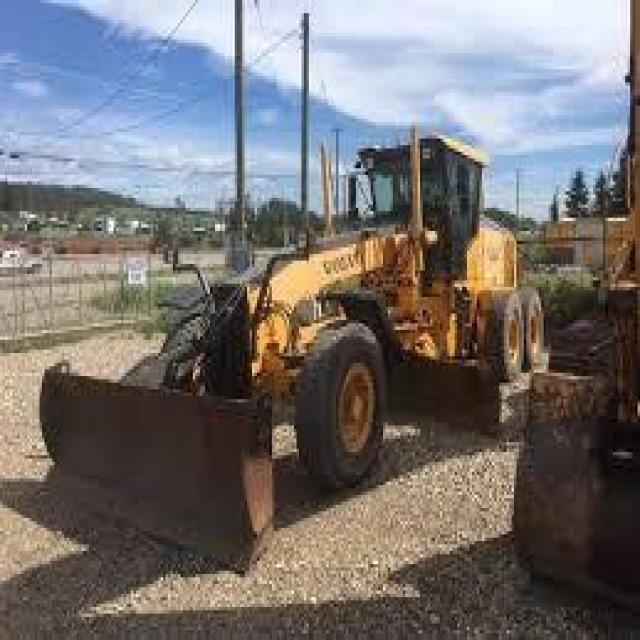Grader: (27, 119, 551, 531)
